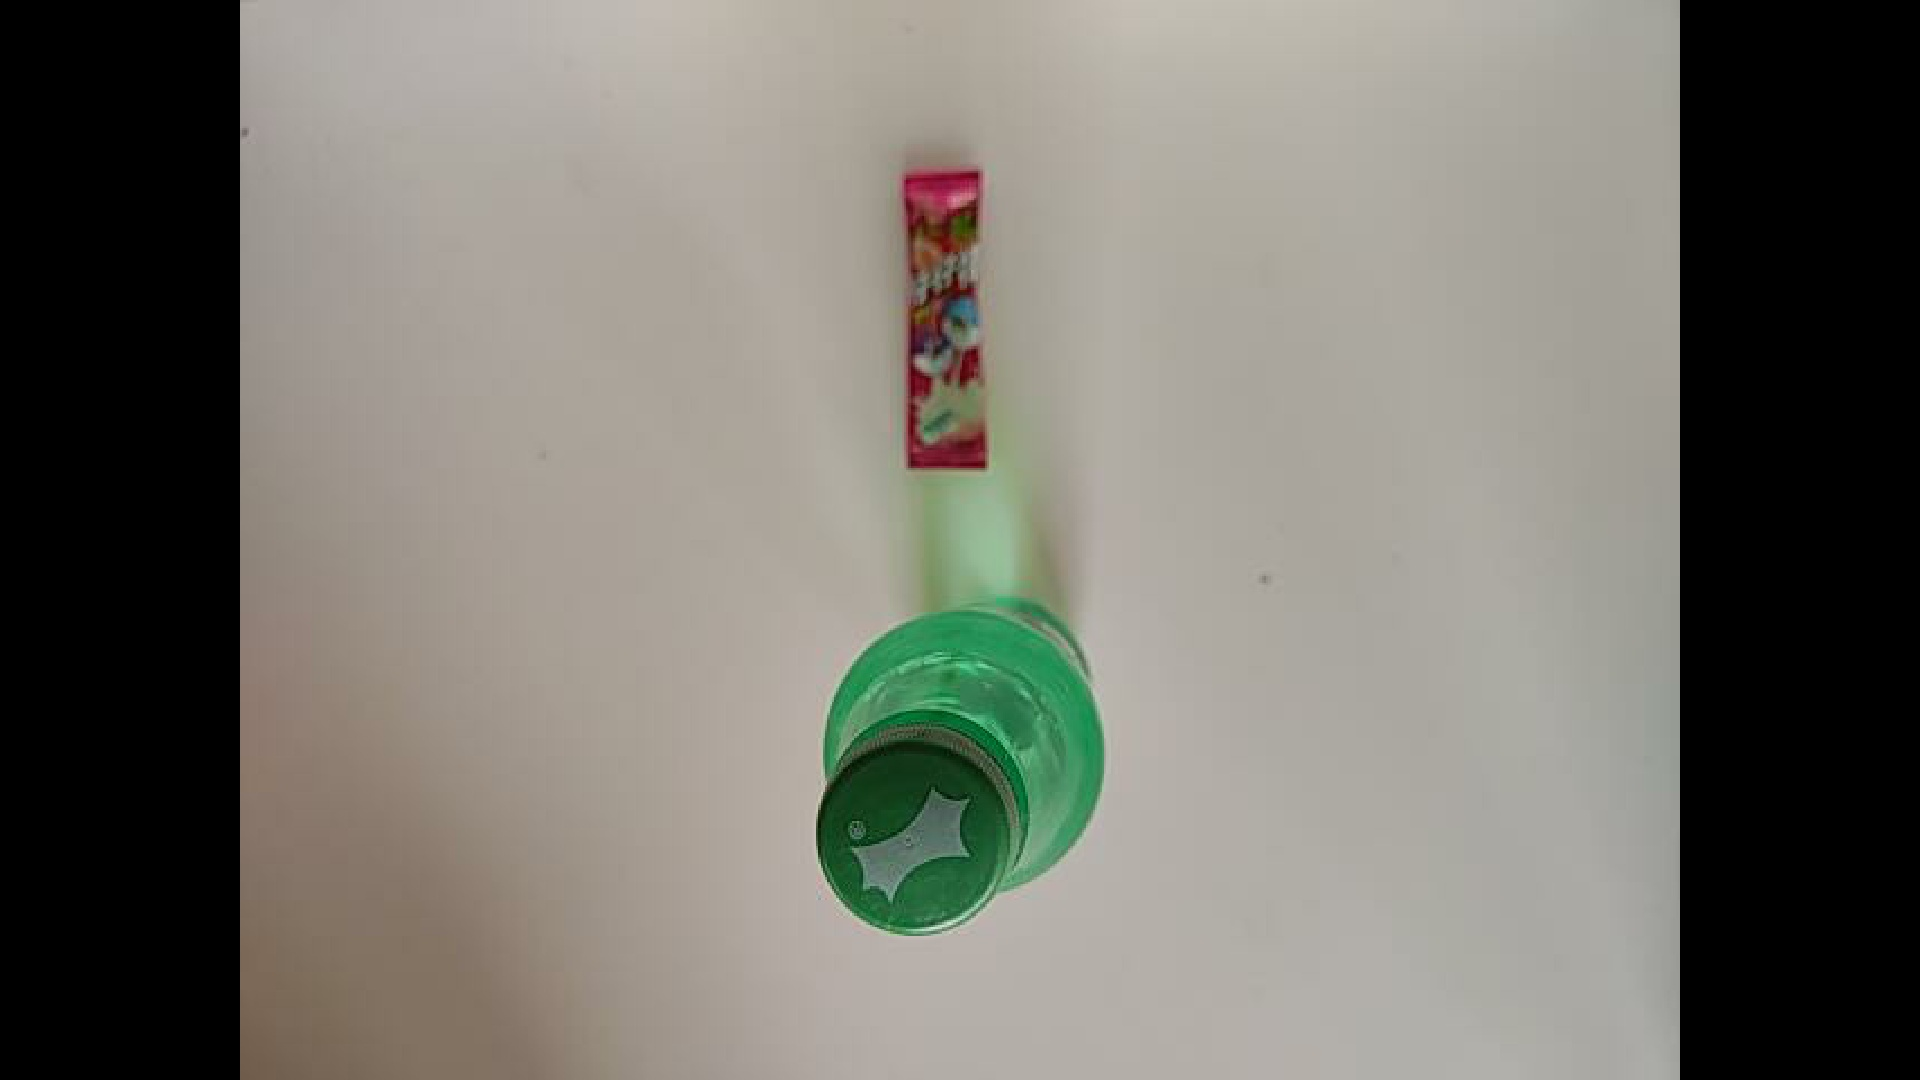sprite: (815, 593, 1106, 938)
sugar: (901, 167, 992, 472)
